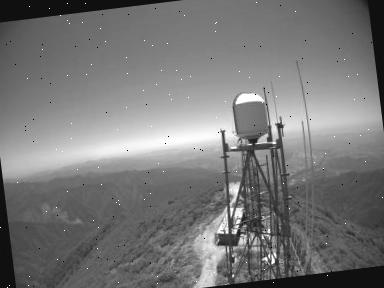smoke: (9, 195, 84, 235)
